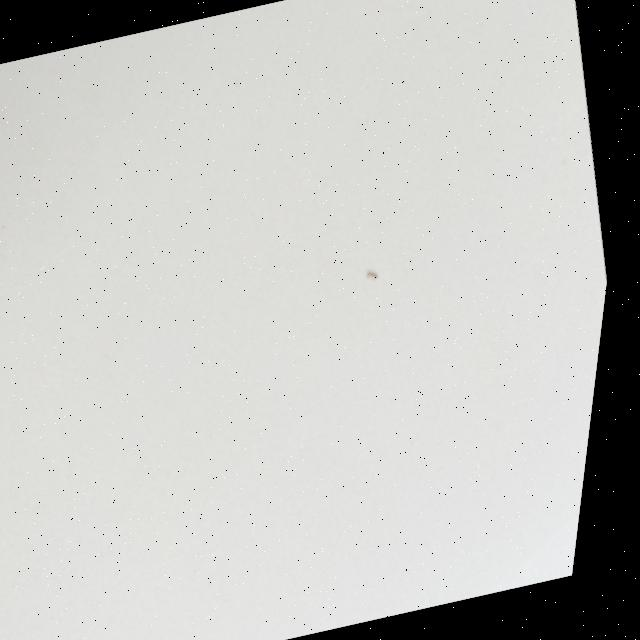Wereng: (350, 264, 392, 290)
